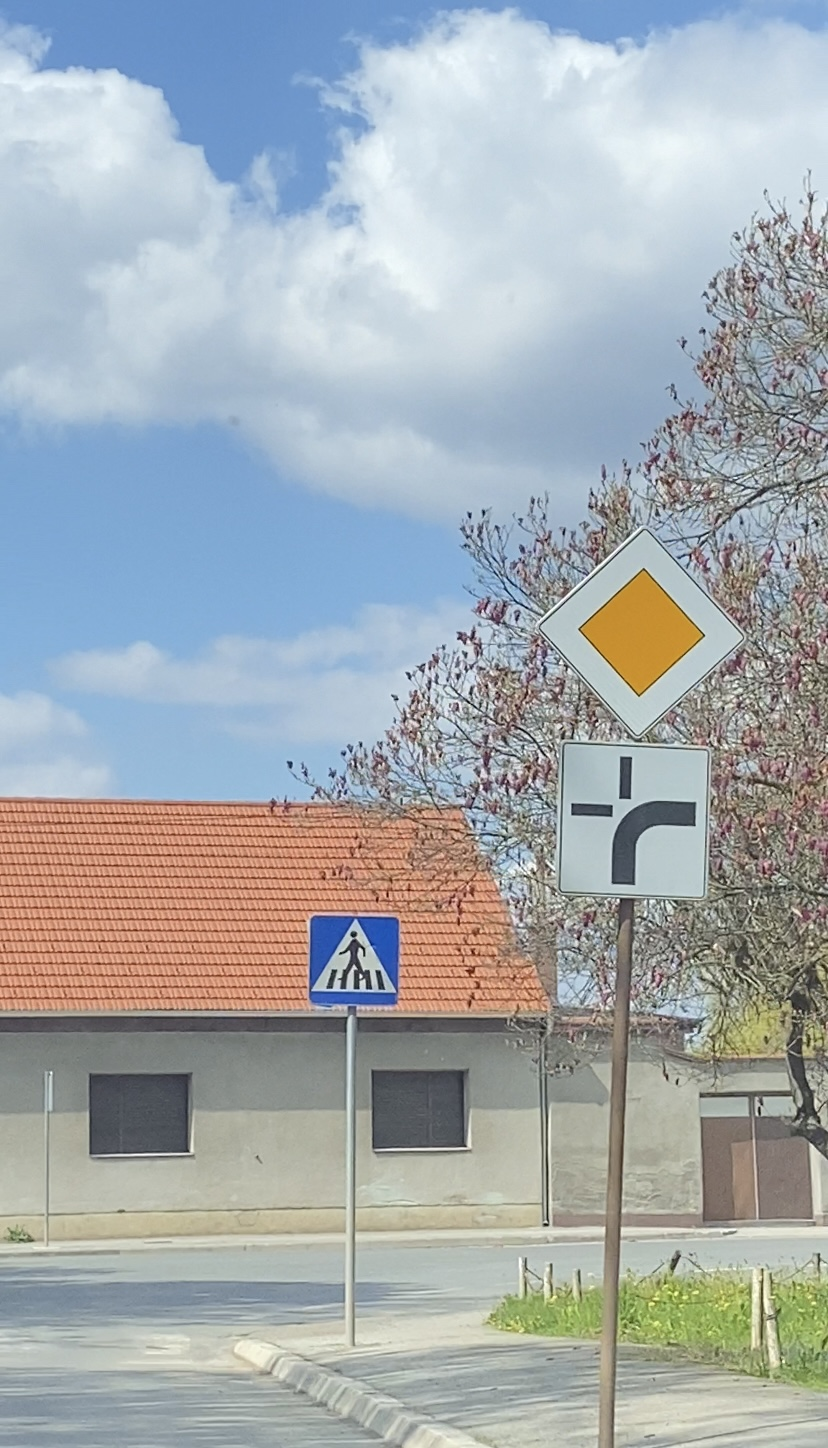Cesta s prednošću prolaska: (535, 524, 747, 742)
Pješački prijelaz: (309, 915, 399, 1006)
